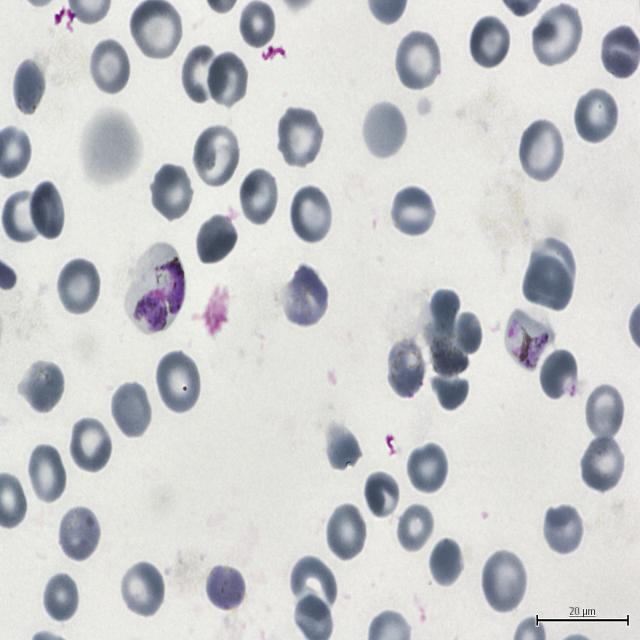red blood cell: (520, 244, 575, 312), (531, 2, 583, 68), (192, 123, 242, 190), (155, 349, 203, 418), (132, 0, 184, 62), (518, 117, 566, 184), (481, 548, 528, 615), (281, 264, 329, 329), (276, 106, 324, 170), (394, 29, 442, 92), (360, 99, 408, 160), (288, 183, 334, 246), (580, 432, 626, 495), (118, 559, 166, 619), (290, 555, 337, 616), (56, 256, 102, 317), (385, 336, 428, 401), (389, 183, 438, 240), (573, 85, 619, 145), (150, 162, 195, 223), (68, 414, 113, 475), (18, 357, 66, 414), (56, 504, 102, 563), (109, 379, 153, 440), (583, 381, 625, 444), (325, 501, 368, 562), (206, 50, 250, 109), (181, 42, 224, 102), (238, 166, 280, 227), (26, 443, 67, 505), (88, 37, 131, 96), (468, 14, 512, 71), (28, 180, 67, 243), (194, 212, 239, 266), (406, 441, 449, 496), (538, 347, 580, 403), (10, 56, 48, 117), (542, 502, 584, 557), (236, 0, 279, 53), (4, 188, 46, 242), (395, 500, 435, 555), (204, 563, 246, 614), (41, 571, 80, 624), (362, 469, 402, 520), (428, 536, 466, 589), (325, 424, 361, 473), (430, 367, 470, 411), (426, 287, 459, 340), (429, 338, 468, 376), (454, 311, 482, 354)
trophozoite: (124, 242, 185, 335), (506, 309, 556, 374)
